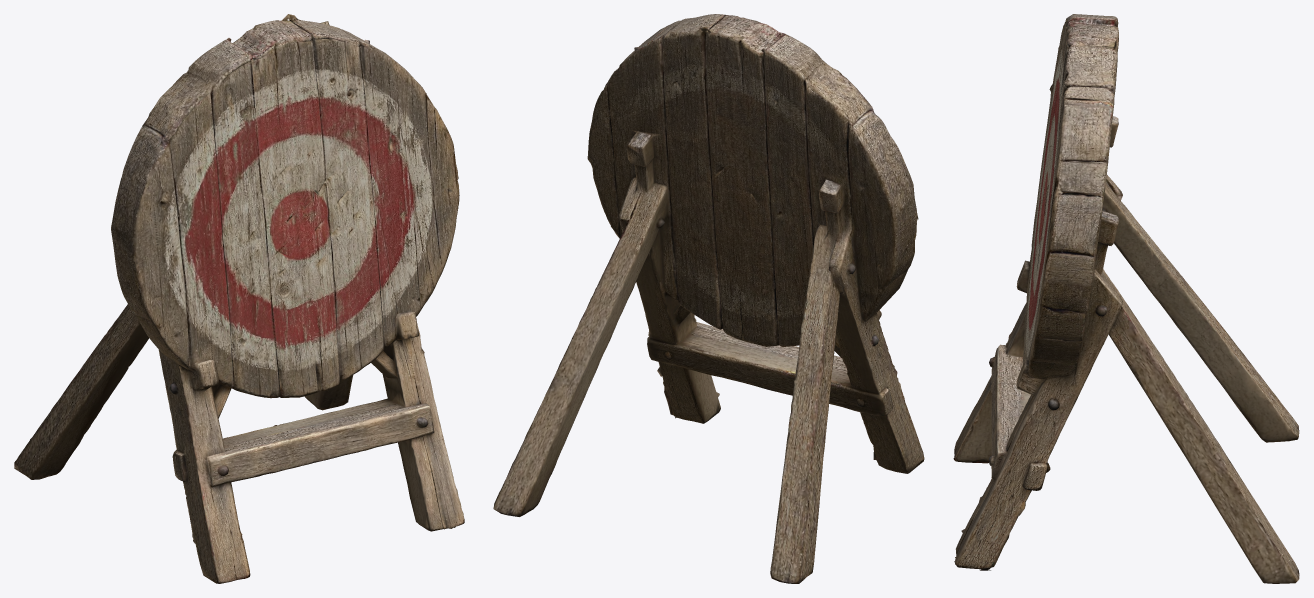
File: Archery target.glb
3 views of the same model, side by side, from view 1: azimuth 30°, elevation 25°; view 2: azimuth 150°, elevation 25°; view 3: azimuth 270°, elevation 25° (orthographic). The views are drawn at different scales.
Parts seen in each view (by area): view 1: tripo_node_67ef3a21-bf28-4a89-b03e-69ad45354f8a; view 2: tripo_node_67ef3a21-bf28-4a89-b03e-69ad45354f8a; view 3: tripo_node_67ef3a21-bf28-4a89-b03e-69ad45354f8a.
Boxes of the visible parts, box(x1,y1,x2,y2) form: tripo_node_67ef3a21-bf28-4a89-b03e-69ad45354f8a: box(14, 14, 464, 583); tripo_node_67ef3a21-bf28-4a89-b03e-69ad45354f8a: box(493, 14, 924, 583); tripo_node_67ef3a21-bf28-4a89-b03e-69ad45354f8a: box(953, 14, 1299, 583).
Size of the model in its own units: 0.6971 by 0.984 by 0.6376.
Materials: 1 (1 with a texture image).
